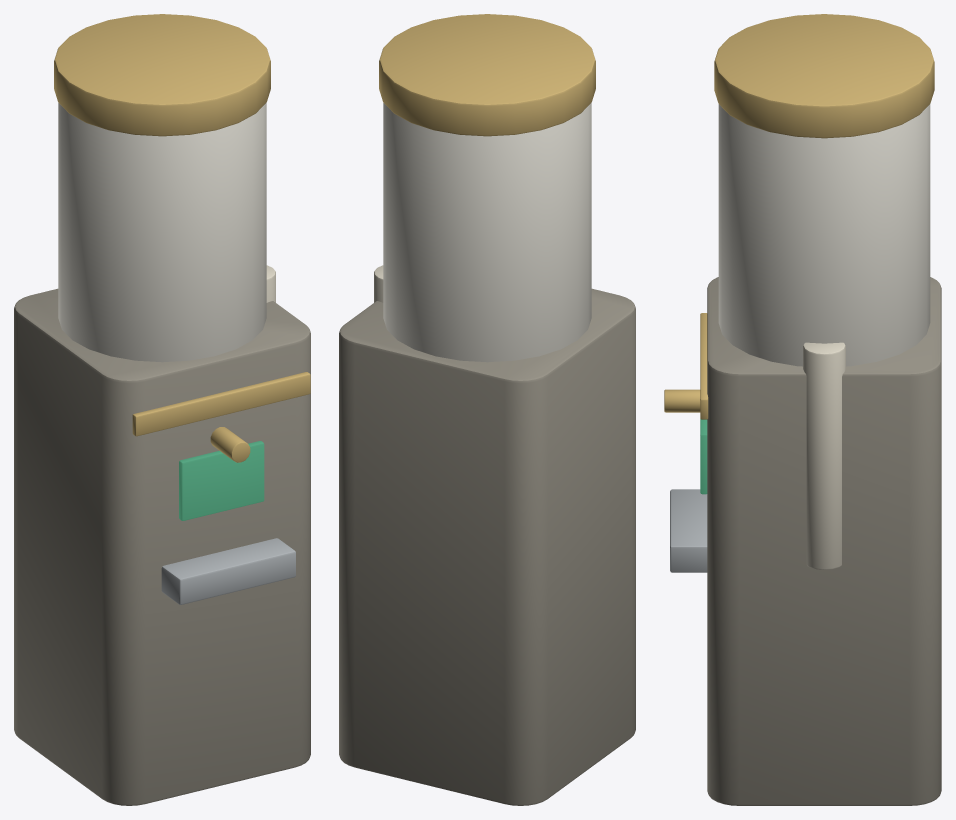
Rendered from water_cooler_country_club.glb.
The picture shows the model from 3 angles, left to right: view 1: azimuth 30°, elevation 25°; view 2: azimuth 150°, elevation 25°; view 3: azimuth 270°, elevation 25°; orthographic projection.
Parts seen in each view (by area): view 1: WaterCooler_Cabinet, WaterCooler_Tank, WaterCooler_Lid, WaterCooler_DrainTray, WaterCooler_FilterScreen, WaterCooler_BrassBand, WaterCooler_Spigot; view 2: WaterCooler_Cabinet, WaterCooler_Tank, WaterCooler_Lid; view 3: WaterCooler_Cabinet, WaterCooler_Tank, WaterCooler_Lid, WaterCooler_CupDispenser, WaterCooler_DrainTray, WaterCooler_Spigot, WaterCooler_BrassBand, WaterCooler_FilterScreen.
Boxes of the visible parts, x1,y1,x2,y2 form: WaterCooler_Cabinet: [14, 288, 310, 805]; WaterCooler_Tank: [58, 103, 266, 362]; WaterCooler_Lid: [54, 14, 270, 136]; WaterCooler_DrainTray: [161, 538, 295, 604]; WaterCooler_FilterScreen: [179, 441, 264, 520]; WaterCooler_BrassBand: [132, 372, 310, 436]; WaterCooler_Spigot: [210, 427, 250, 462]; WaterCooler_Cabinet: [339, 288, 635, 805]; WaterCooler_Tank: [383, 103, 591, 362]; WaterCooler_Lid: [379, 14, 595, 136]; WaterCooler_Cabinet: [707, 277, 941, 805]; WaterCooler_Tank: [718, 104, 930, 366]; WaterCooler_Lid: [714, 14, 934, 138]; WaterCooler_CupDispenser: [803, 342, 845, 569]; WaterCooler_DrainTray: [670, 489, 707, 572]; WaterCooler_Spigot: [664, 389, 700, 412]; WaterCooler_BrassBand: [700, 313, 708, 419]; WaterCooler_FilterScreen: [700, 419, 707, 494].
Size of what is drawn, in the model's own units: 0.5425 by 1.67 by 0.6014.
